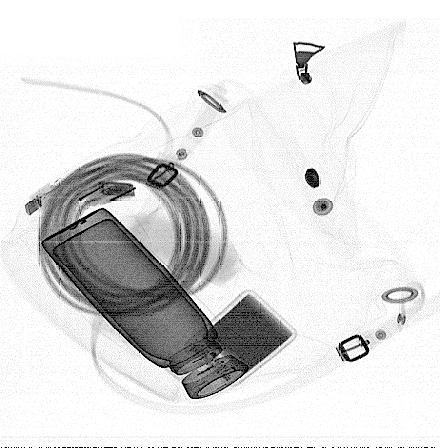Powerbank: (184, 290, 297, 390)
